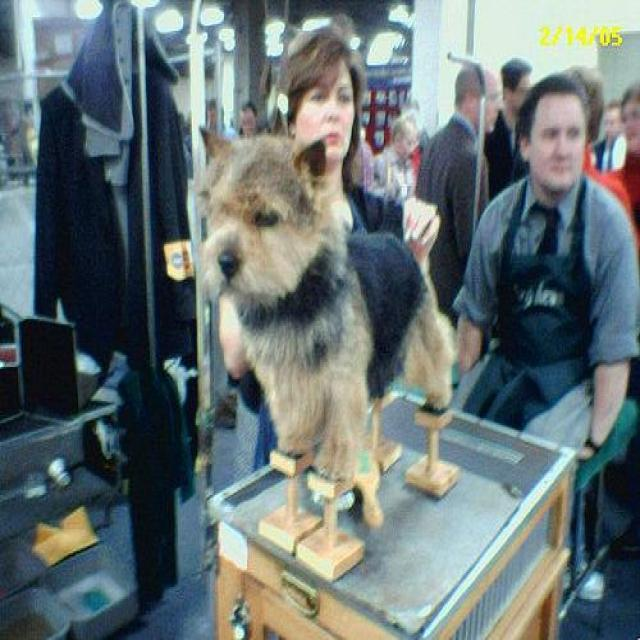dogs: (177, 112, 483, 569)
